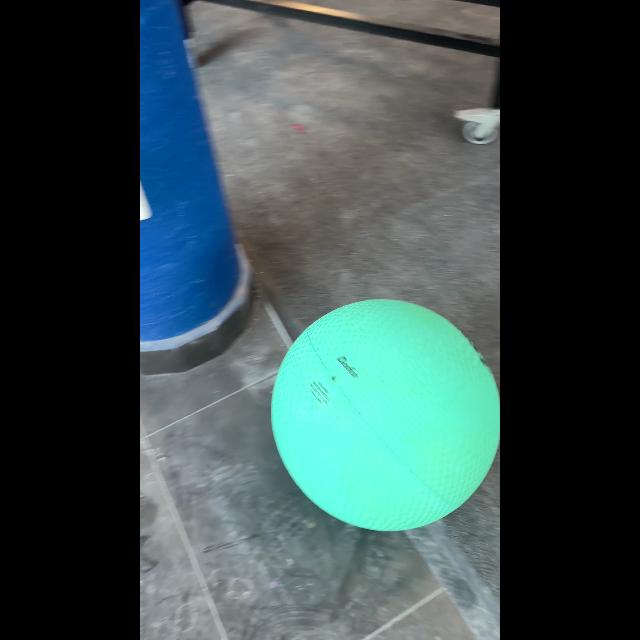ALGAE: (270, 298, 498, 532)
